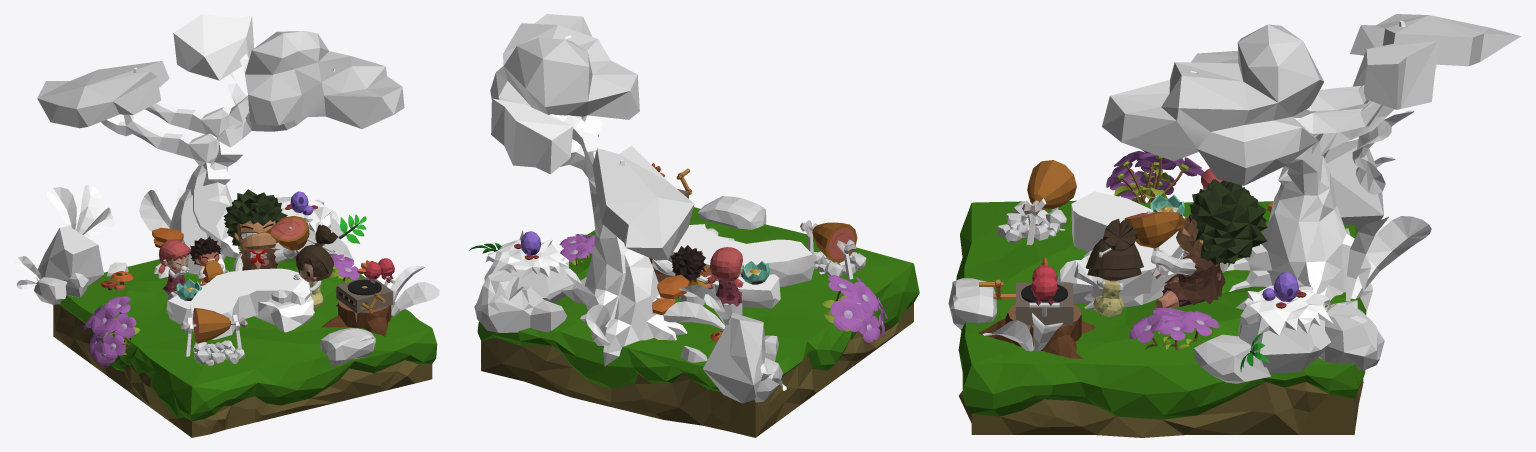
Rendered from 0102_roundStoneFamily_dinnerTime.fbx.
3 renders of one model, left to right at view 1: azimuth 30°, elevation 25°; view 2: azimuth 150°, elevation 25°; view 3: azimuth 270°, elevation 25°, orthographic. The views are drawn at different scales.
Visible parts, largest first — view 1: Stage1, Stage2, Wood_Leaf3, Wood (×2), Table (×2), Wood_Leaf1, Wood_Leaf2, Father_Head, Rock2, Grass2 (×2), Grass, Rock1 (+14 smaller); view 2: Stage2, Wood_Leaf3, Wood (×2), Wood_Leaf1, Table (×2), Wood_Leaf2, Rock2, Rock7, Flower1 (×4), Stage1, Nest, Rock1 (+11 smaller); view 3: Stage1, Wood_Leaf3, Wood (×2), Table (×2), Father_Head, Wood_Leaf1, Grass2 (×2), Wood_Leaf2, Rock7, Rock6, Rock2, Nest (+16 smaller).
Boxes of the visible parts, box(x1,y1,x2,y2) form: Stage1: box(190, 258, 437, 437); Stage2: box(53, 247, 271, 437); Wood_Leaf3: box(245, 31, 404, 128); Wood (×2): box(101, 53, 334, 278); Table (×2): box(166, 268, 313, 339); Wood_Leaf1: box(37, 61, 169, 128); Wood_Leaf2: box(173, 14, 253, 80); Father_Head: box(223, 189, 287, 250); Rock2: box(37, 226, 103, 285); Grass2 (×2): box(139, 177, 439, 316); Grass: box(46, 184, 114, 237); Rock1: box(320, 328, 375, 365); Stage2: box(477, 263, 919, 437); Wood_Leaf3: box(490, 14, 639, 119); Wood (×2): box(549, 35, 687, 366); Wood_Leaf1: box(592, 145, 694, 260); Table (×2): box(665, 224, 814, 308); Wood_Leaf2: box(491, 98, 572, 174); Rock2: box(703, 312, 765, 403); Rock7: box(474, 270, 566, 332); Flower1 (×4): box(822, 275, 880, 342); Stage1: box(481, 207, 912, 370); Nest: box(486, 230, 568, 280); Rock1: box(698, 196, 766, 229); Stage1: box(956, 203, 1357, 437); Wood_Leaf3: box(1102, 24, 1323, 185); Wood (×2): box(1190, 20, 1436, 311); Table (×2): box(1056, 191, 1184, 306); Father_Head: box(1176, 179, 1267, 264); Wood_Leaf1: box(1350, 14, 1520, 66); Grass2 (×2): box(982, 216, 1431, 351); Wood_Leaf2: box(1353, 35, 1438, 109); Rock7: box(1318, 300, 1384, 370); Rock6: box(1238, 307, 1330, 373); Rock2: box(1324, 139, 1383, 230); Nest: box(1236, 285, 1333, 335).
Bounding box in the file's own units: 12.85 × 10.96 × 14.56.
